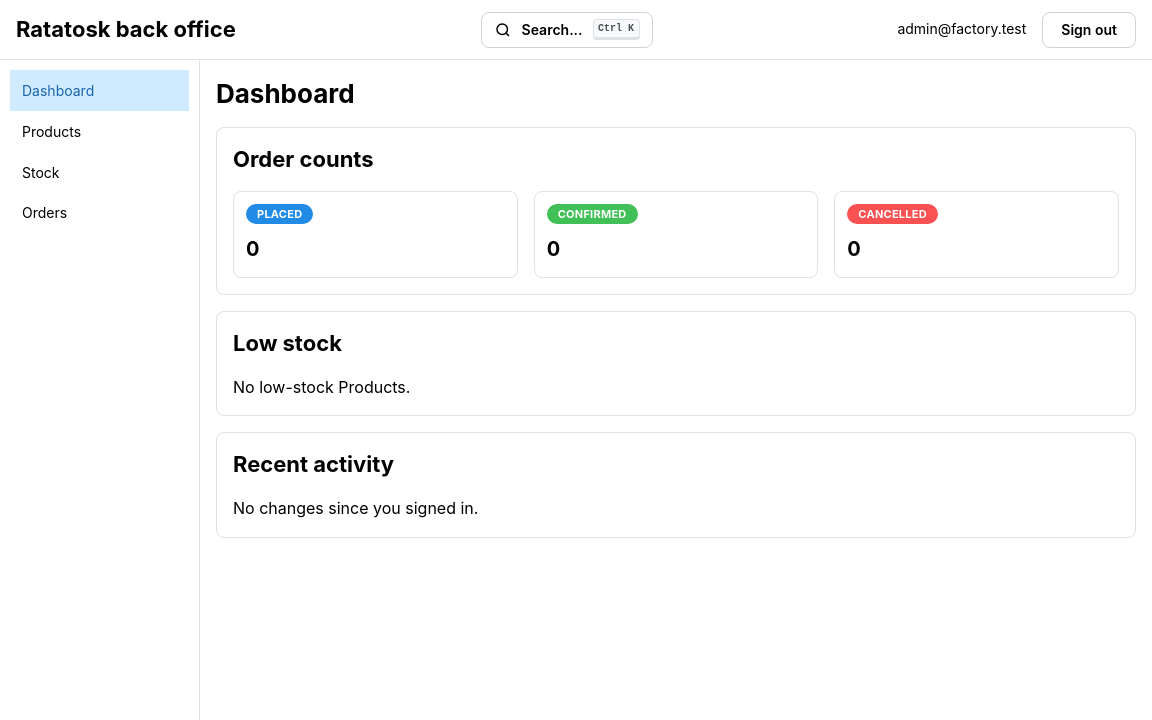
Test: App › keeps one change stream open while signed in and closes it on sign-out
The width and height of the screenshot is (1152, 720).
Check: the text "admin@factory.test" is shown, box x1=897 y1=19 x2=1026 y2=40
Click the button "Stock" at [100, 172], box x1=10 y1=152 x2=189 y2=192
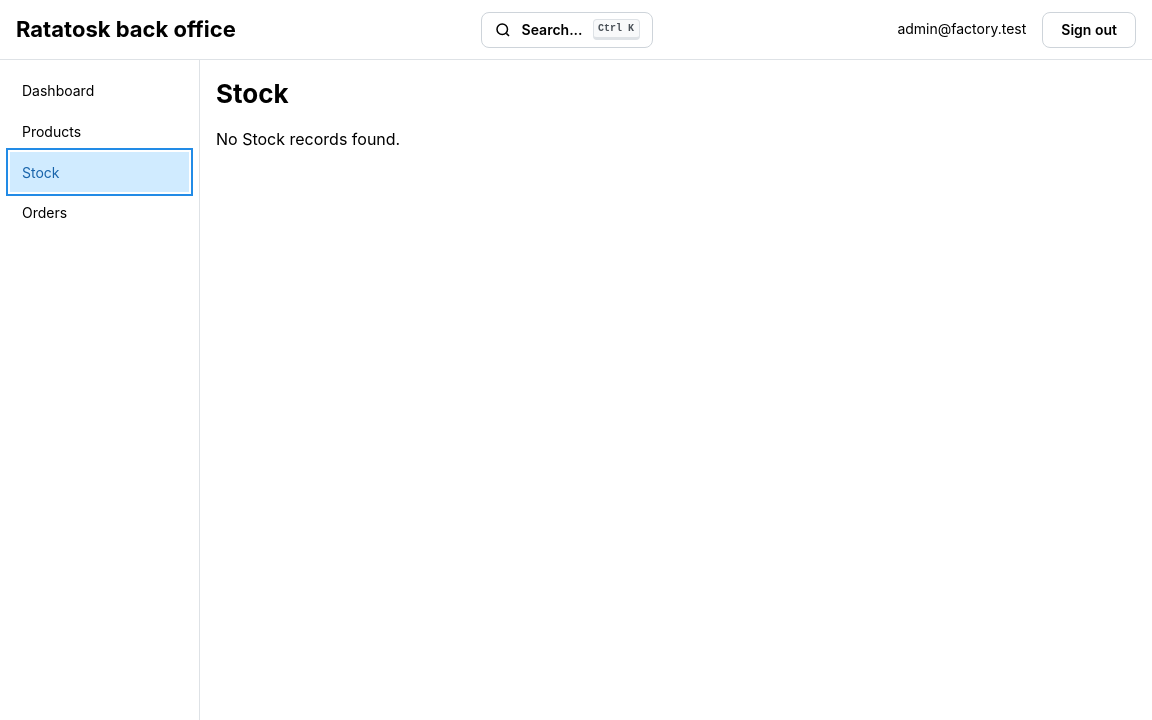
Click the button "Sign out" at [1089, 30], box x1=1042 y1=12 x2=1136 y2=48
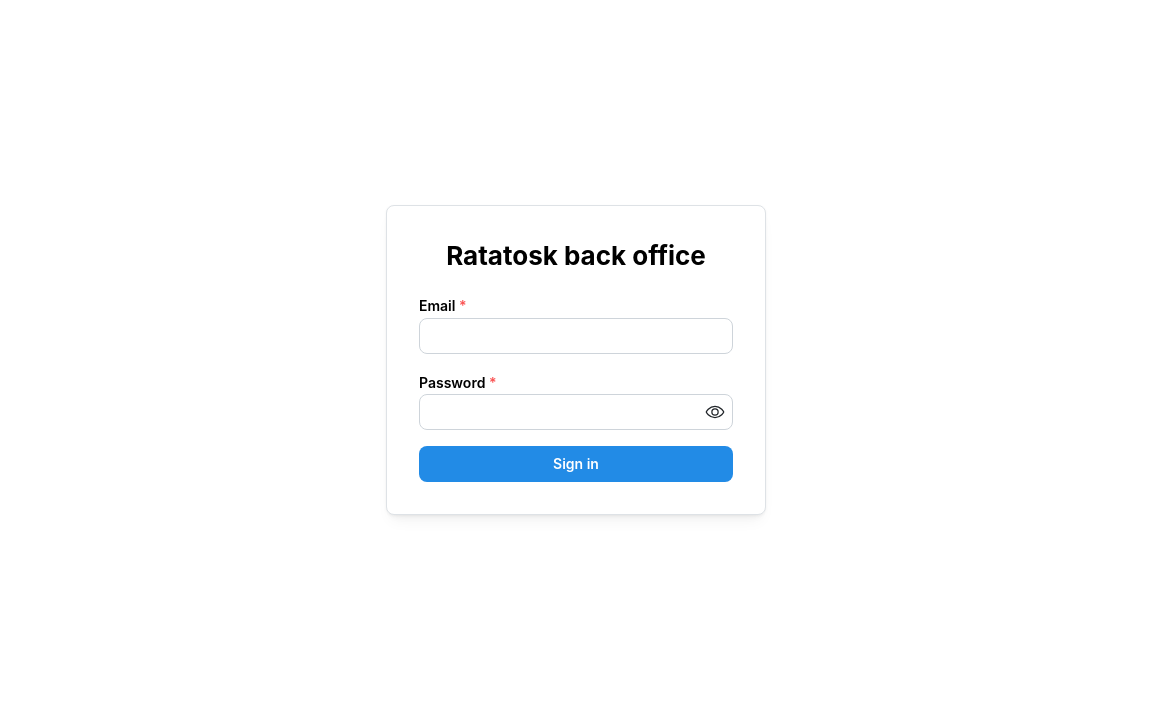
Check: the button "Sign in" is shown, box x1=419 y1=446 x2=733 y2=482
